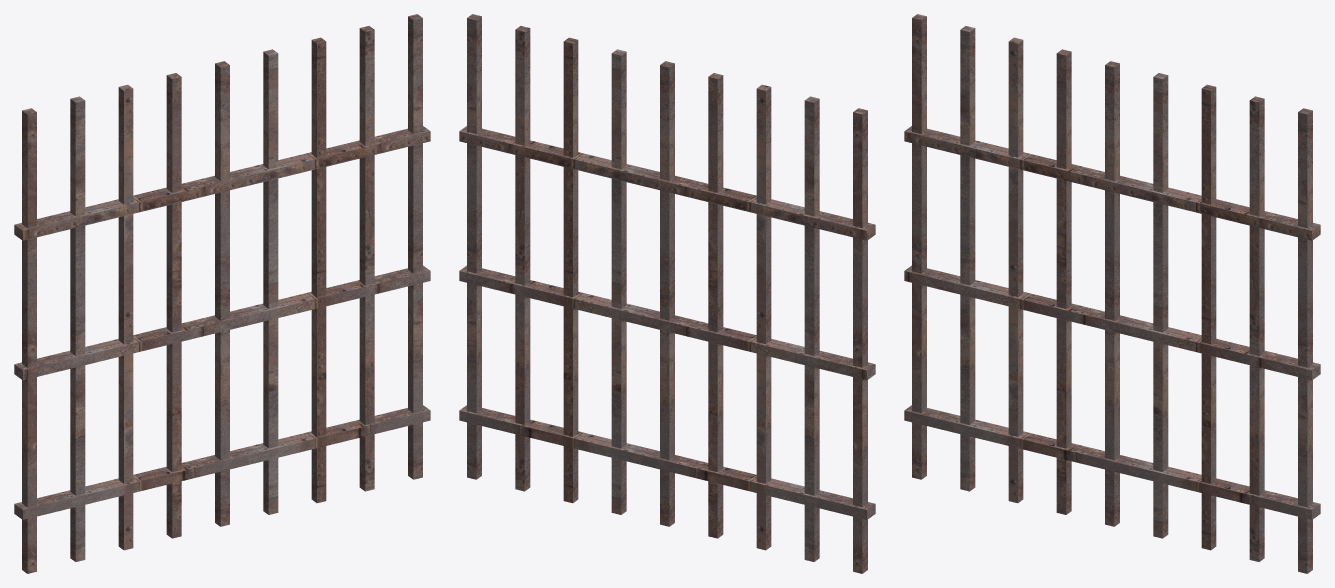
Rendered from MetalGate.fbx.
3 views of the same model, side by side, from view 1: azimuth 30°, elevation 25°; view 2: azimuth 150°, elevation 25°; view 3: azimuth 330°, elevation 25° (orthographic).
Visible parts, largest first — view 1: Fence; view 2: Fence; view 3: Fence.
Part boxes in pixels (x1,y1,x2,y2): Fence: (14,14,430,573); Fence: (459,14,875,573); Fence: (904,14,1320,573).
Bounding box in the file's own units: 314 × 338 × 11.44.
